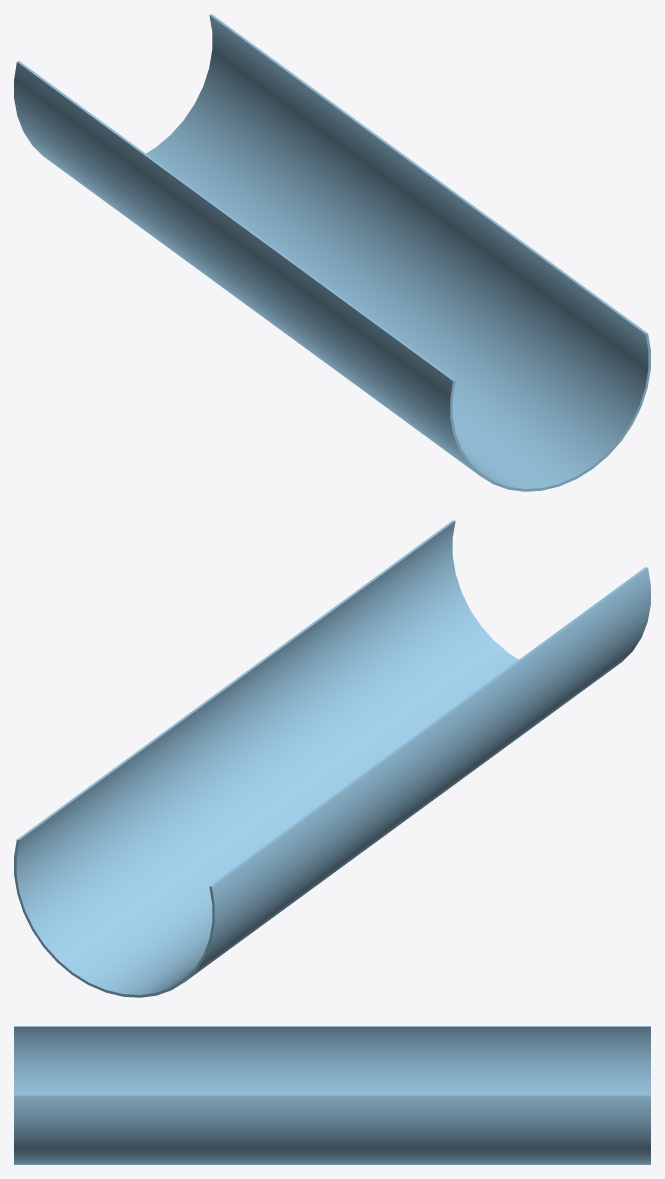
File: pipe_superior.dae
The picture shows the model from 3 angles, top to bottom: view 1: azimuth 30°, elevation 25°; view 2: azimuth 150°, elevation 25°; view 3: azimuth 270°, elevation 25°; orthographic projection. The views are drawn at different scales.
Parts seen in each view (by area): view 1: ID2; view 2: ID2; view 3: ID2.
Boxes of the visible parts, box(x1,y1,x2,y2) form: ID2: box(14, 14, 650, 491); ID2: box(14, 520, 650, 997); ID2: box(14, 1026, 650, 1164).
Bounding box in the file's own units: 0.3988 × 1.5 × 0.2492.
